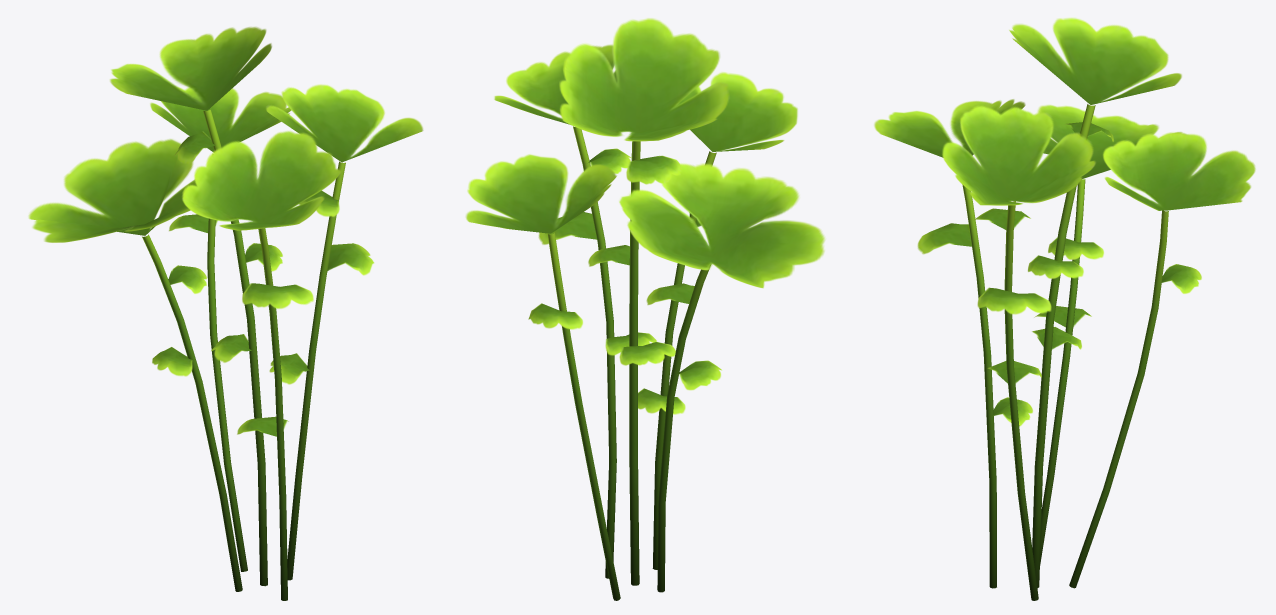
Rendered from clover-u5sogbfiut-transformed.glb.
3 renders of one model, left to right at view 1: azimuth 30°, elevation 25°; view 2: azimuth 150°, elevation 25°; view 3: azimuth 270°, elevation 25°, orthographic. The views are drawn at different scales.
Parts seen in each view (by area): view 1: Clover_2; view 2: Clover_2; view 3: Clover_2.
Part boxes in pixels (x1=…): Clover_2: x1=28, y1=27, x2=423, y2=600; Clover_2: x1=465, y1=18, x2=825, y2=600; Clover_2: x1=874, y1=17, x2=1255, y2=600.
Size of the model in its own units: 0.8512 by 1.26 by 0.8367.
1 material, 1 textured.
